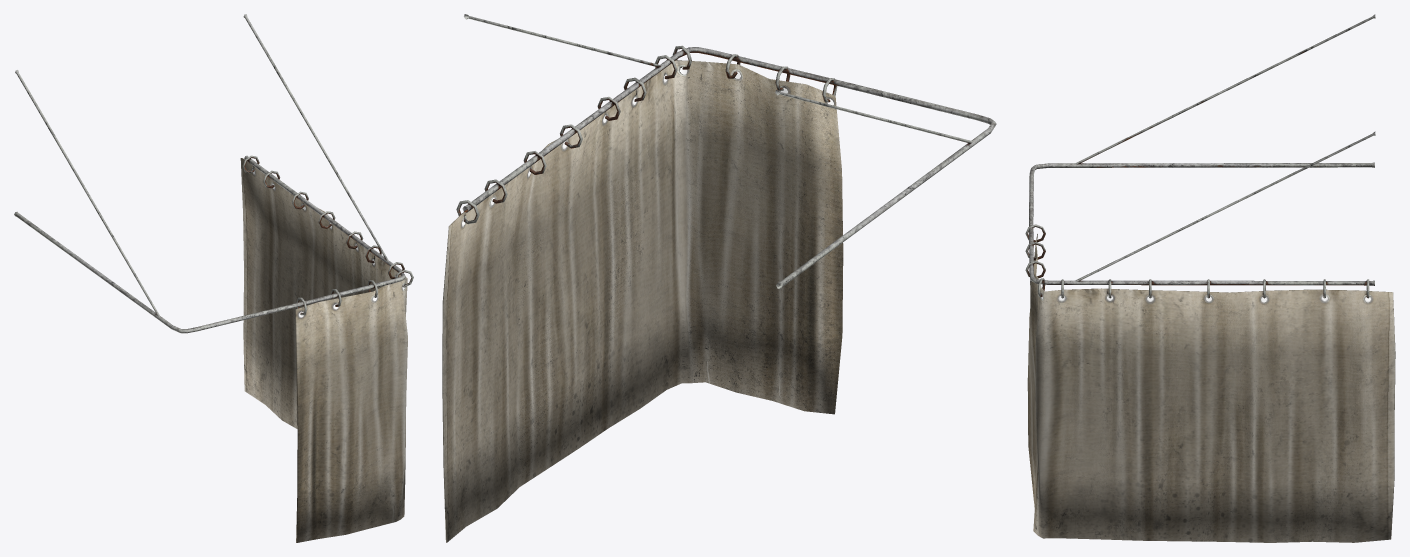
File: Curtain1_Fixed.fbx
3 renders of one model, left to right at view 1: azimuth 30°, elevation 25°; view 2: azimuth 150°, elevation 25°; view 3: azimuth 270°, elevation 25°, orthographic. The views are drawn at different scales.
Visible parts, largest first — view 1: Curtain; view 2: Curtain; view 3: Curtain.
Boxes of the visible parts, box(x1,y1,x2,y2) form: Curtain: box(14, 14, 413, 542); Curtain: box(442, 14, 996, 542); Curtain: box(1025, 14, 1395, 542).
Bounding box in the file's own units: 527 × 794 × 655.
Materials: 1 (1 with a texture image).
